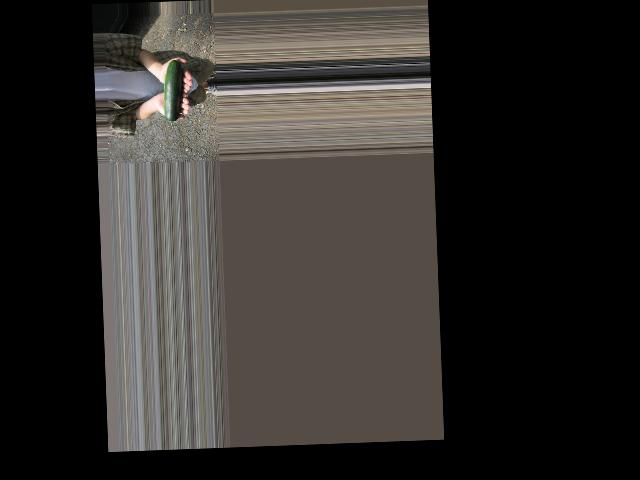cucumber: (162, 60, 184, 129)
